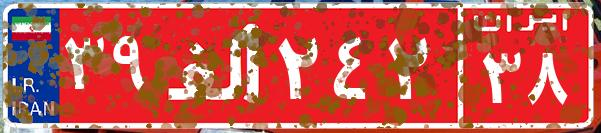2: (385, 28, 445, 110), (273, 28, 330, 110)
3: (57, 26, 110, 107), (475, 38, 525, 113)
4: (330, 28, 385, 110)
8: (525, 38, 570, 115)
9: (110, 28, 158, 105)
الف: (158, 15, 273, 115)
